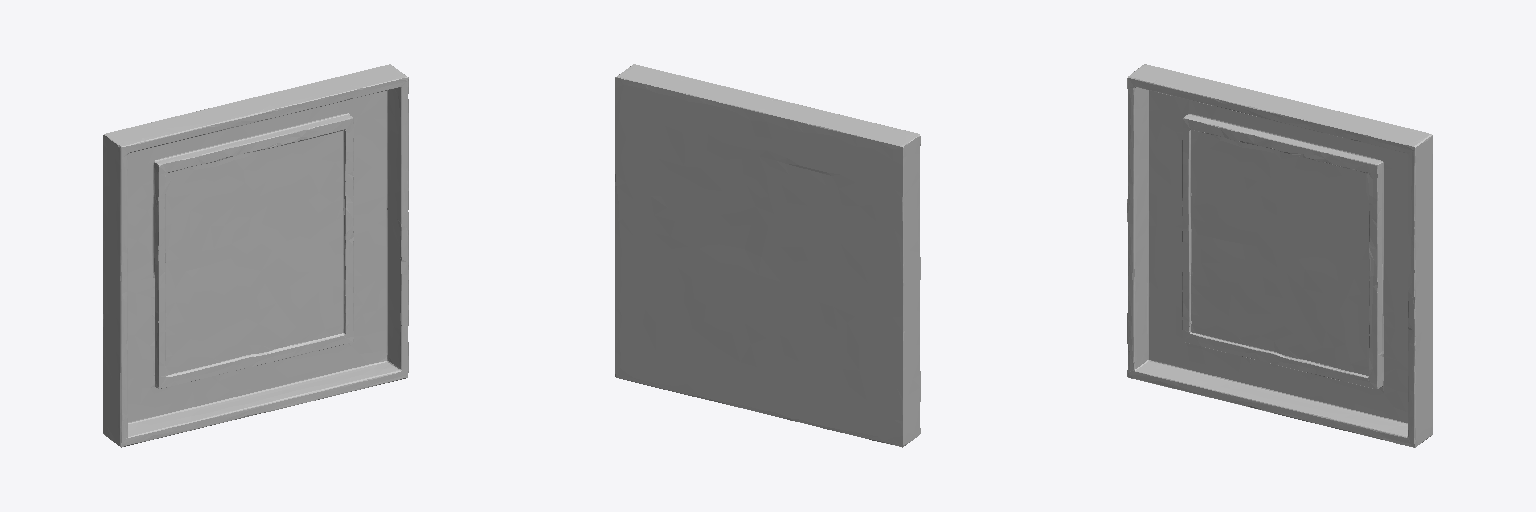
The model's file is Geometric_Balance_1102172132_texture.obj.
3 views of the same model, side by side, from view 1: azimuth 30°, elevation 25°; view 2: azimuth 150°, elevation 25°; view 3: azimuth 330°, elevation 25° (orthographic).
Parts seen in each view (by area): view 1: Geometric_Balance_[number redacted]_texture; view 2: Geometric_Balance_[number redacted]_texture; view 3: Geometric_Balance_[number redacted]_texture.
Part boxes in pixels (x1,y1,x2,y2): Geometric_Balance_[number redacted]_texture: (103, 64, 408, 447); Geometric_Balance_[number redacted]_texture: (615, 64, 920, 447); Geometric_Balance_[number redacted]_texture: (1127, 64, 1432, 447).
Bounding box in the file's own units: 2.01 × 2 × 0.2174.